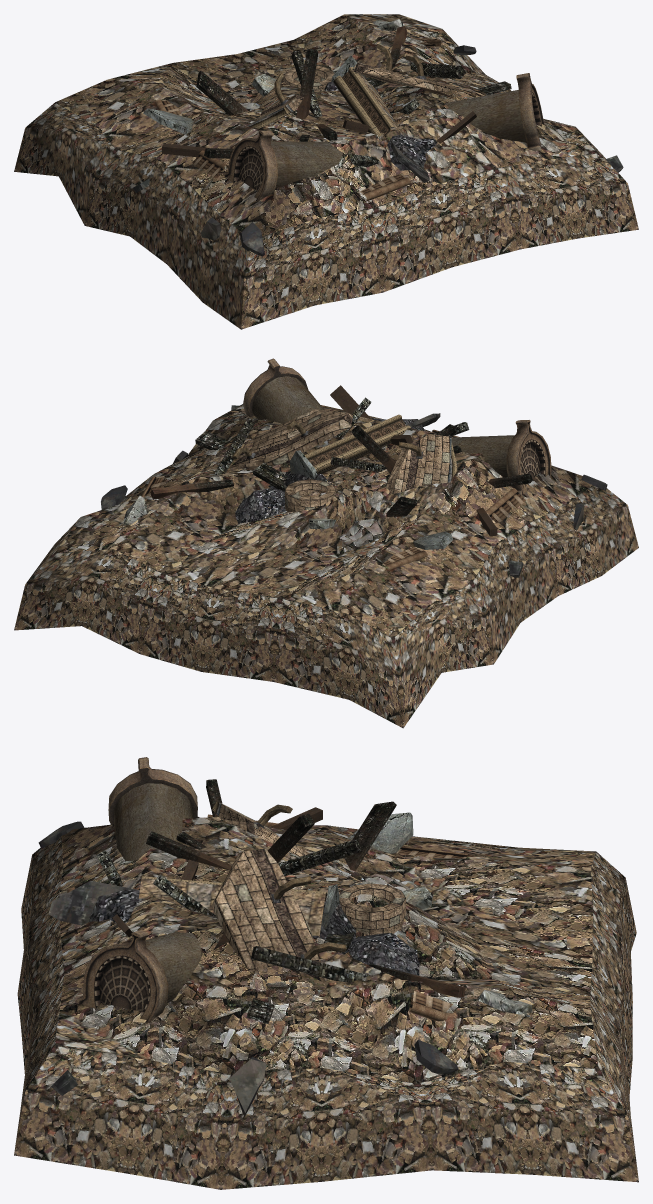
Rendered from rubble_maur_cc.glb.
The picture shows the model from 3 angles, top to bottom: view 1: azimuth 30°, elevation 25°; view 2: azimuth 150°, elevation 25°; view 3: azimuth 270°, elevation 25°; orthographic projection. The views are drawn at different scales.
Parts seen in each view (by area): view 1: rubble_maur_cc_part0, rubble_maur_cc_part1; view 2: rubble_maur_cc_part0, rubble_maur_cc_part1; view 3: rubble_maur_cc_part0, rubble_maur_cc_part1.
Boxes of the visible parts, bbox=[...] form: rubble_maur_cc_part0: bbox=[14, 14, 638, 329]; rubble_maur_cc_part1: bbox=[155, 38, 543, 201]; rubble_maur_cc_part0: bbox=[14, 385, 638, 728]; rubble_maur_cc_part1: bbox=[141, 358, 551, 569]; rubble_maur_cc_part0: bbox=[14, 779, 638, 1189]; rubble_maur_cc_part1: bbox=[67, 757, 469, 1022].
Bounding box in the file's own units: 6.61 × 2.63 × 6.53.
Materials: 2 (2 with a texture image).
